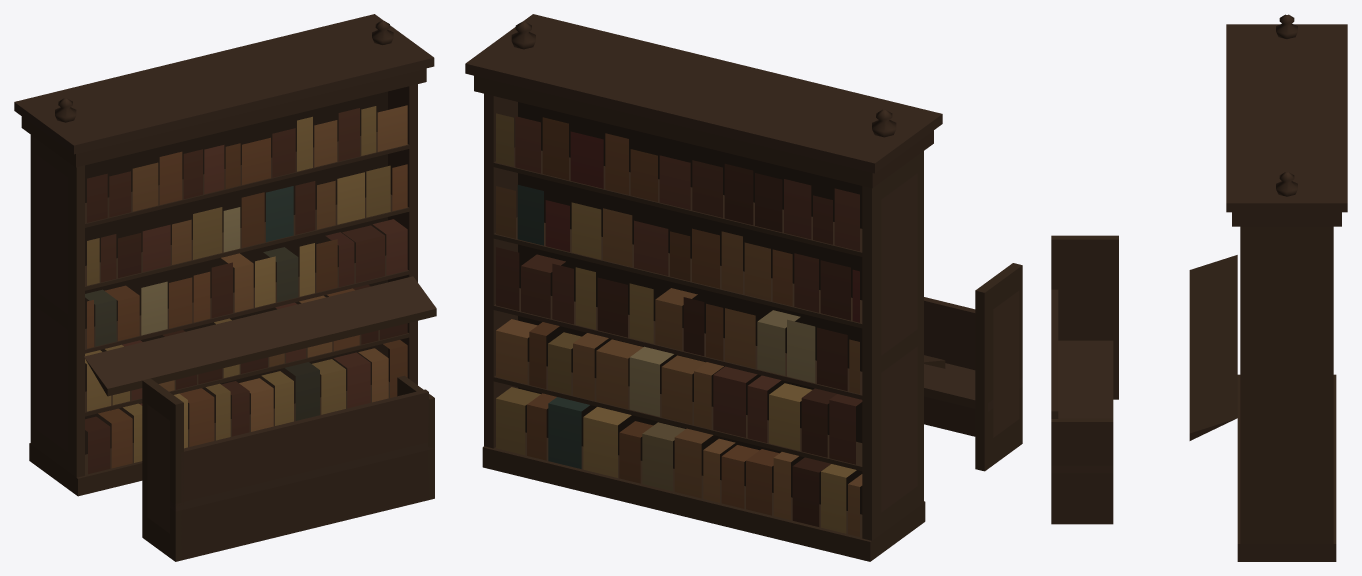
File: bookcase.press.dark_oak.glb
3 renders of one model, left to right at view 1: azimuth 30°, elevation 25°; view 2: azimuth 150°, elevation 25°; view 3: azimuth 270°, elevation 25°, orthographic. The views are drawn at different scales.
Parts seen in each view (by area): view 1: bookcase_press_dark_oak; view 2: bookcase_press_dark_oak; view 3: bookcase_press_dark_oak.
Boxes of the visible parts, left/top/right/bottom form: bookcase_press_dark_oak: left=14, top=14, right=436, bottom=561; bookcase_press_dark_oak: left=465, top=14, right=1022, bottom=561; bookcase_press_dark_oak: left=1051, top=14, right=1347, bottom=561.
Size of what is drawn, in the model's own units: 3 by 3 by 2.1.
